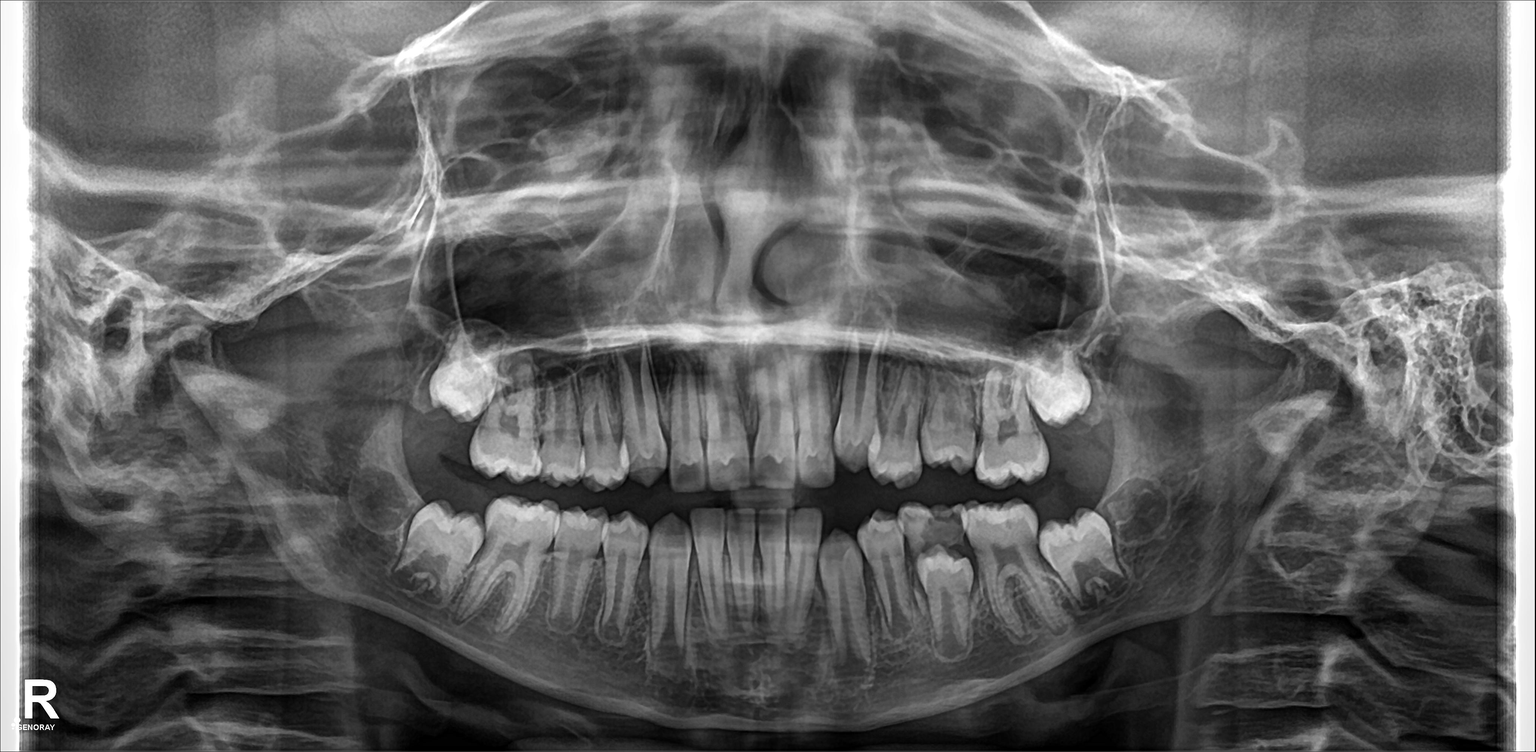Dental Caries: (918, 510, 968, 553)
Impacted Third Molar: (406, 503, 475, 588), (1045, 525, 1122, 597), (1021, 346, 1091, 425), (423, 344, 504, 407)
